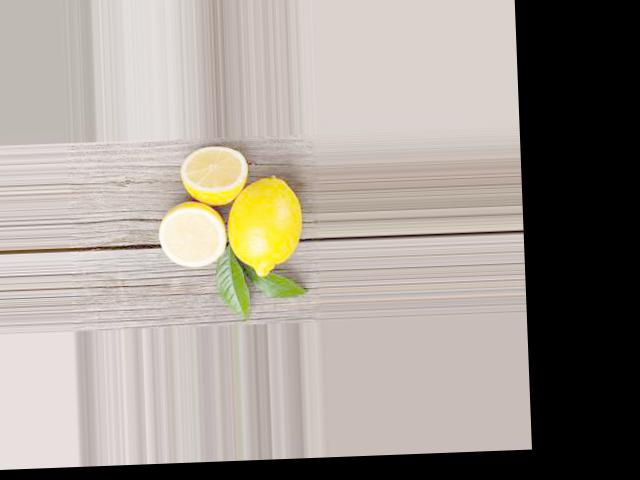lemon: (222, 159, 315, 283)
